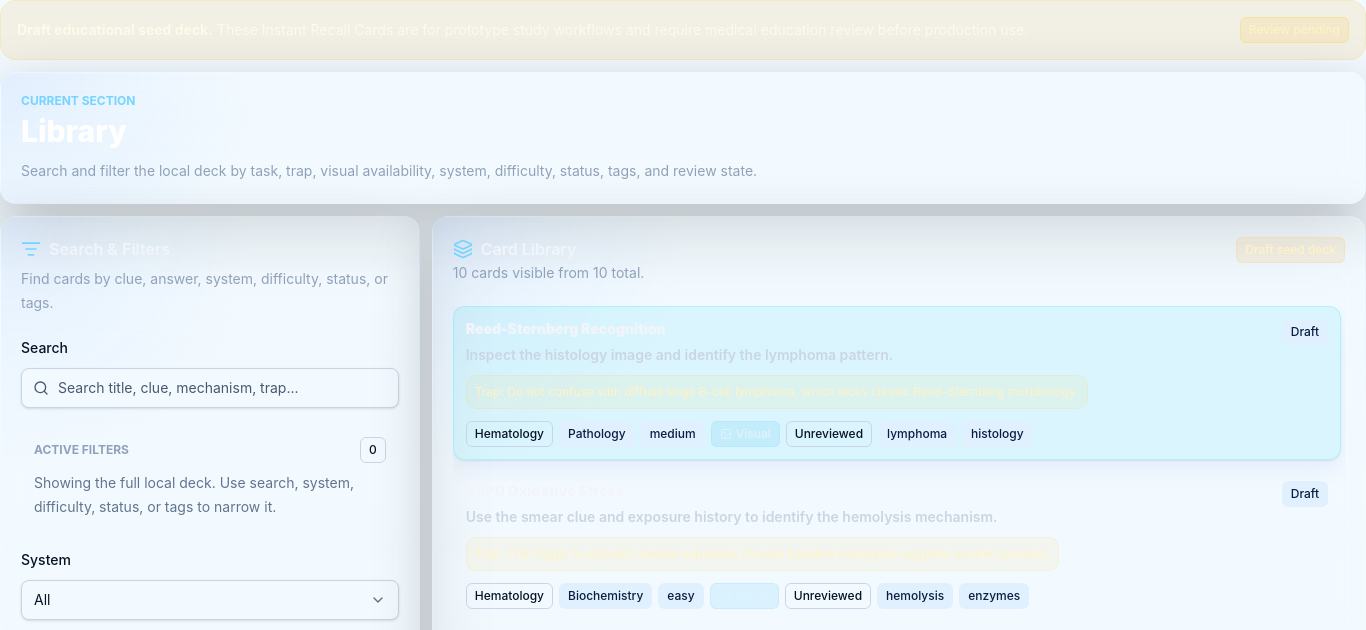
Test: InstantRecallEngine › shows an empty state instead of a stale card when filters match nothing
Type "not-a-real-card" into the field labelled "Search".
click(210, 388); type("not-a-real-card")  # box left=21, top=368, right=399, bottom=408
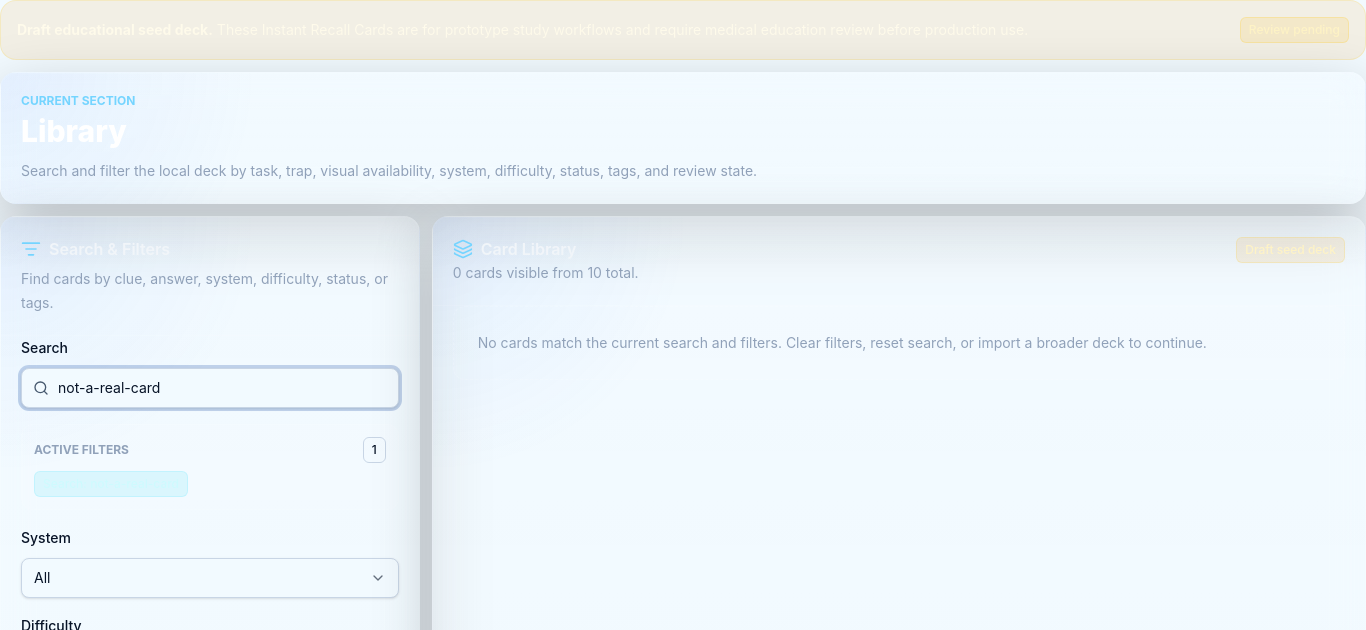
Expected: the text "0 cards visible from 10 total." is shown, left=453, top=260, right=639, bottom=284
Now the button "Reed-Sternberg Recognition" is gone
